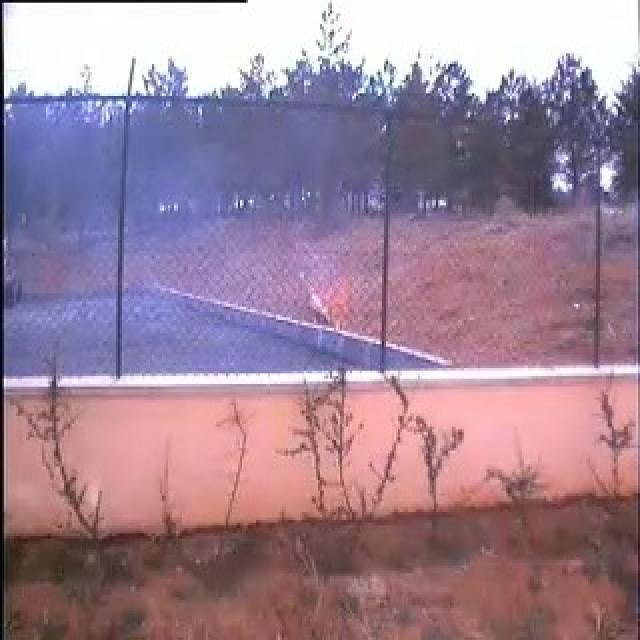smoke: (121, 122, 311, 379)
